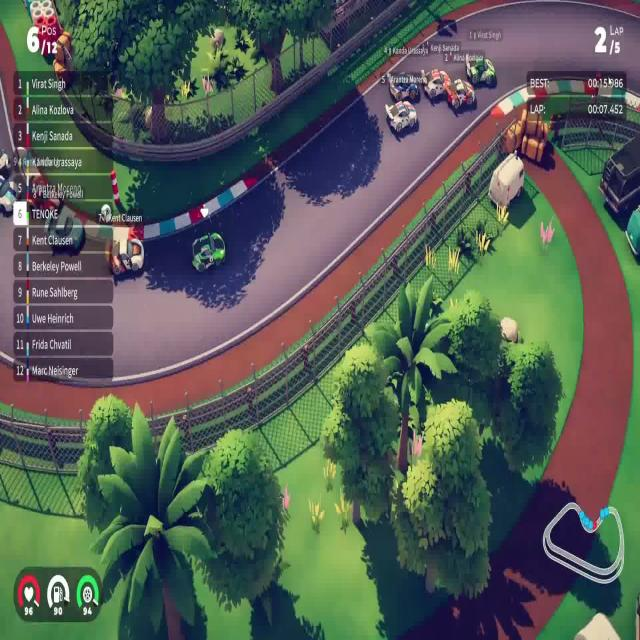car: (191, 230, 226, 274), (106, 236, 144, 274), (384, 98, 417, 135), (464, 52, 496, 88), (443, 76, 476, 110), (421, 66, 450, 102), (388, 73, 420, 102)
